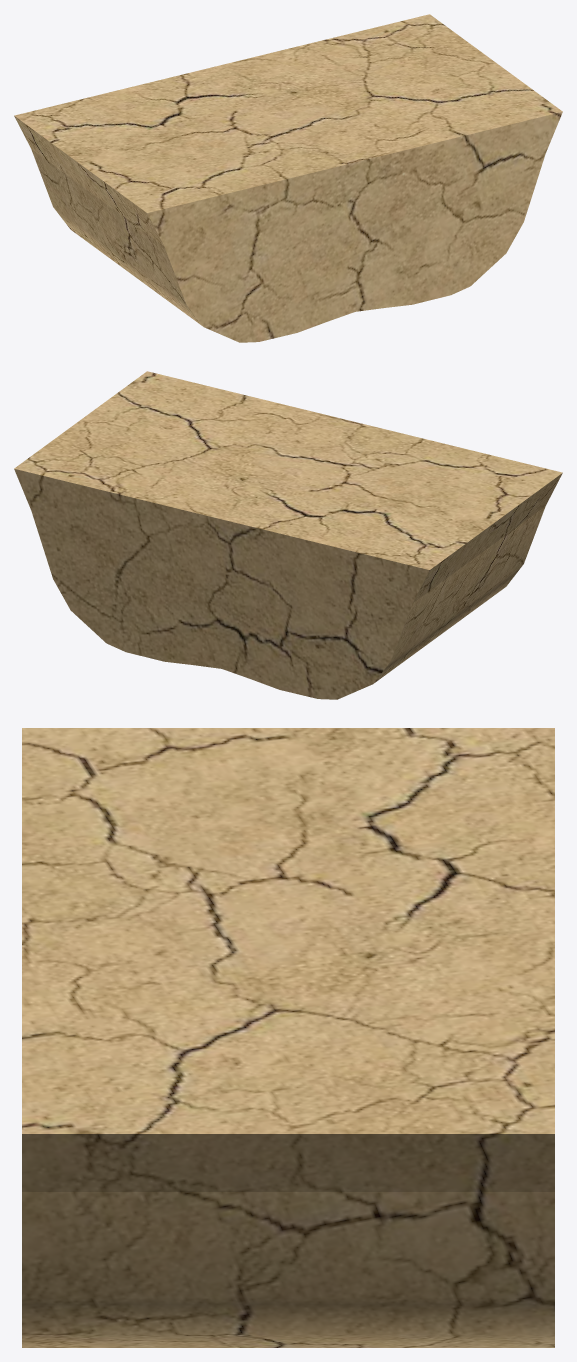
The model's file is plataformaCamello.fbx.
The picture shows the model from 3 angles, top to bottom: view 1: azimuth 30°, elevation 25°; view 2: azimuth 150°, elevation 25°; view 3: azimuth 270°, elevation 25°; orthographic projection. The views are drawn at different scales.
Visible parts, largest first — view 1: plataformaCamello; view 2: plataformaCamello; view 3: plataformaCamello.
Boxes of the visible parts, x1=… form: plataformaCamello: x1=14, y1=14, x2=562, y2=342; plataformaCamello: x1=14, y1=371, x2=562, y2=699; plataformaCamello: x1=22, y1=728, x2=554, y2=1347.
Size of the model in its own units: 5.41 by 1.94 by 3.
Materials: 1 (1 with a texture image).
